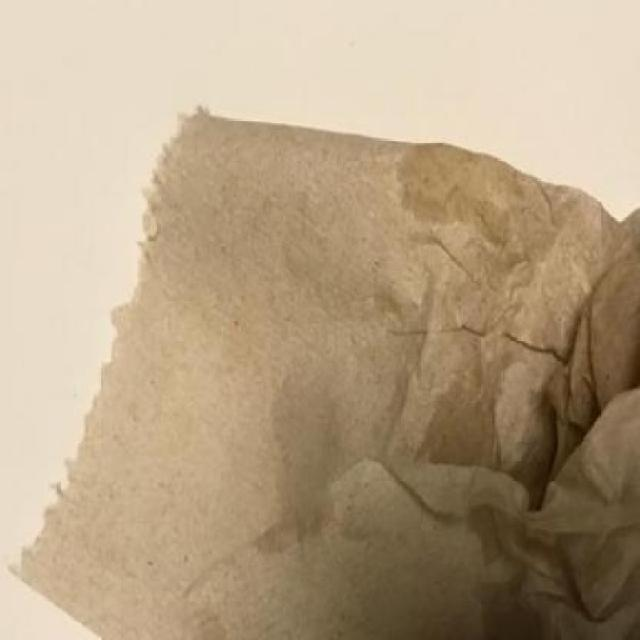trash: (6, 106, 640, 640)
